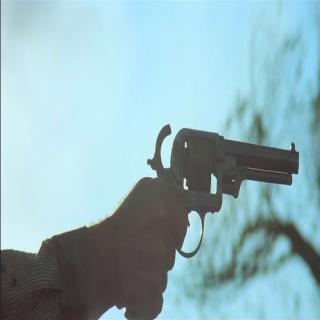gun: (127, 122, 300, 320)
